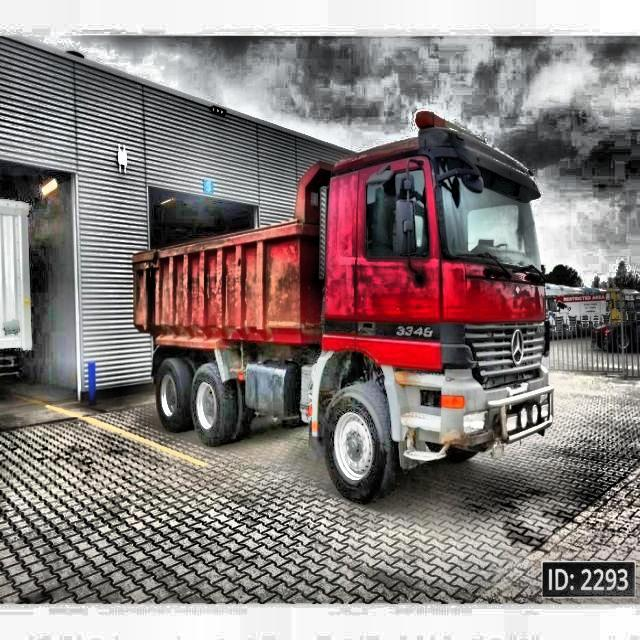dump_truck: (132, 110, 554, 502)
